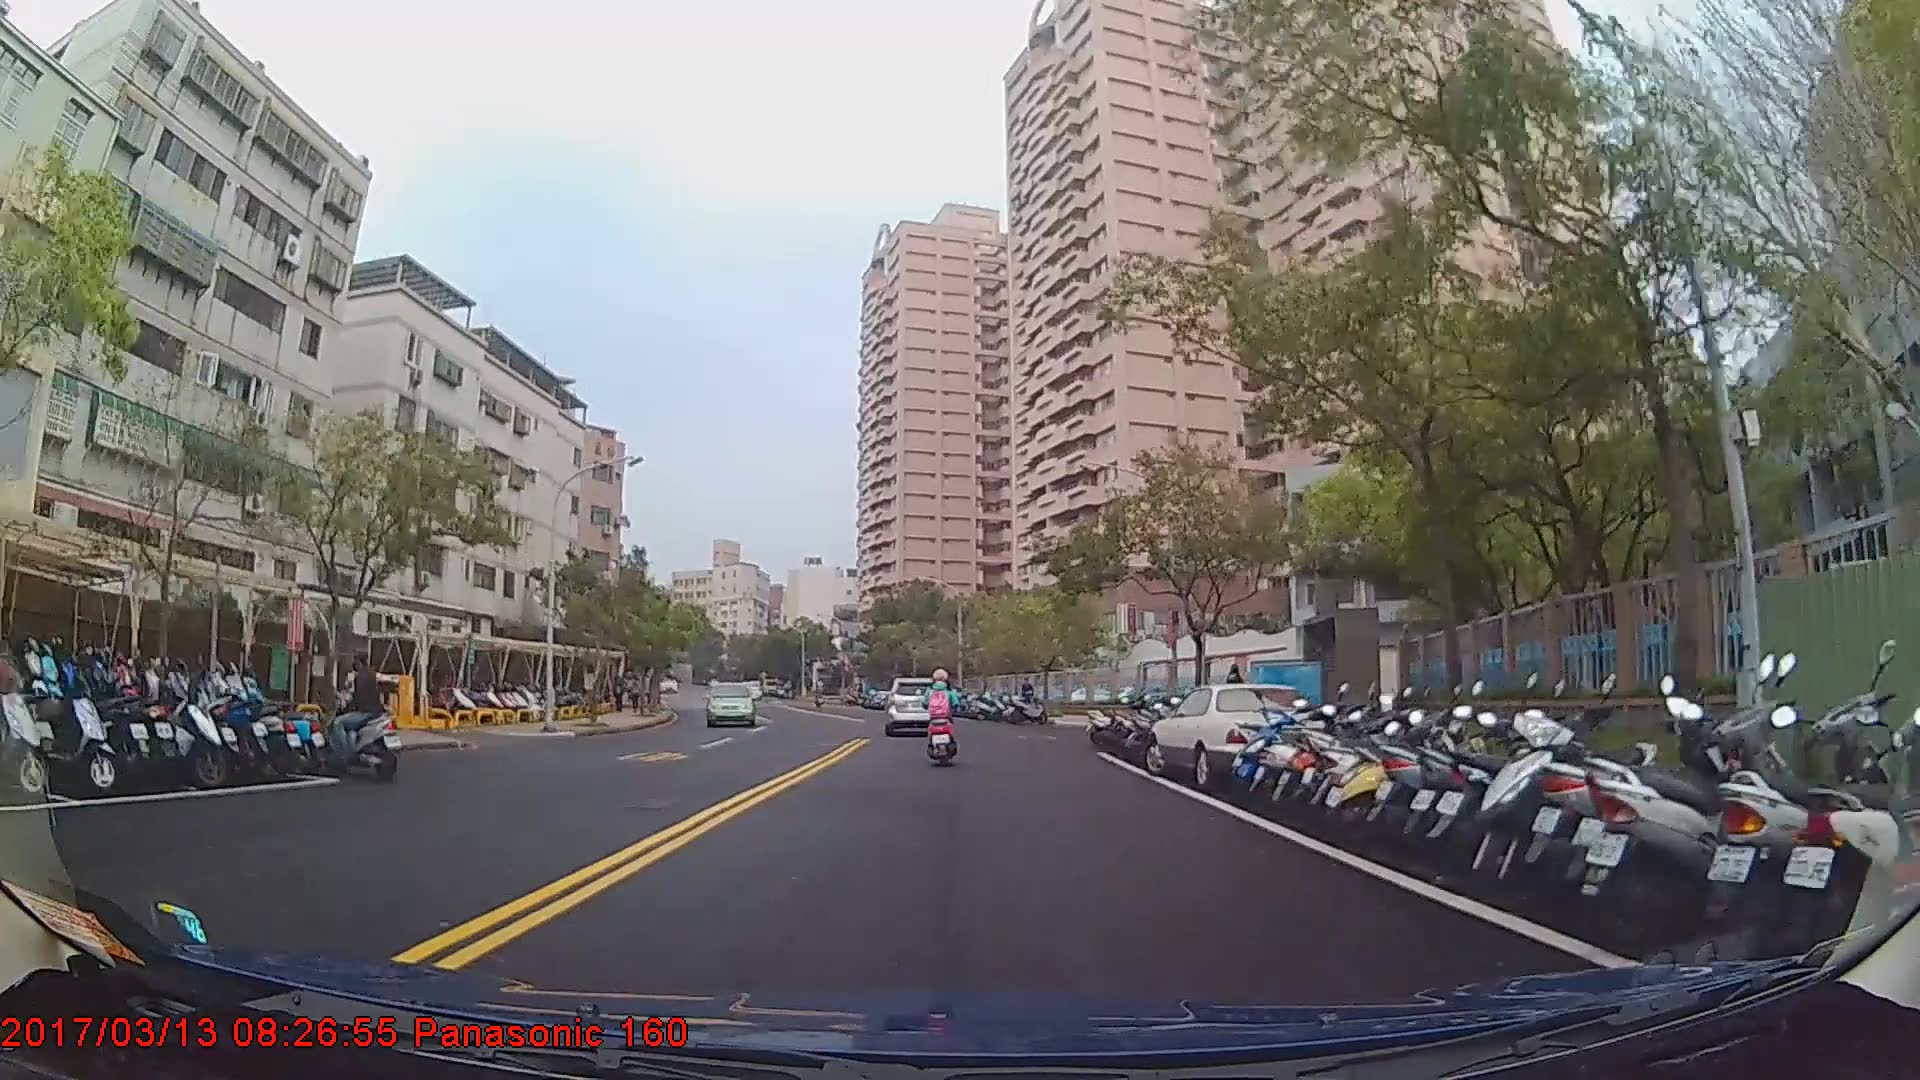pedestrian: (1226, 665, 1250, 726)
rider: (317, 647, 389, 770), (922, 669, 962, 769)
vehicle: (1147, 680, 1323, 787), (880, 676, 944, 735), (704, 681, 757, 729)
